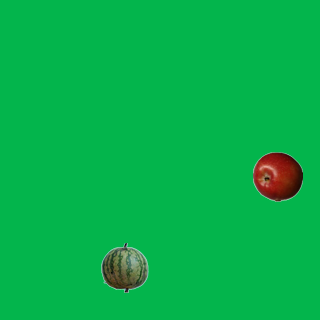Apple Braeburn: (252, 151, 302, 201)
Watermelon: (99, 242, 149, 292)
